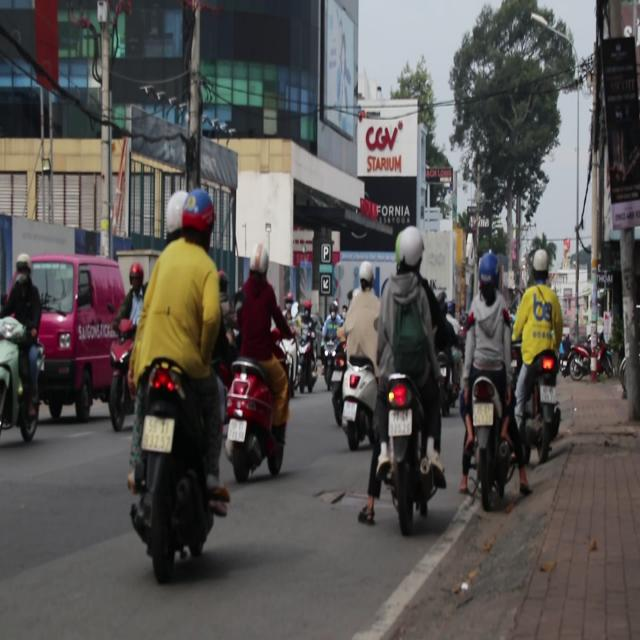motorbike: (123, 356, 222, 580), (377, 372, 435, 546), (460, 371, 516, 519), (222, 360, 284, 483), (517, 346, 567, 472), (0, 326, 40, 445), (338, 350, 378, 450), (109, 329, 138, 431), (294, 318, 322, 396), (566, 348, 591, 382)
truck: (16, 254, 128, 422)
